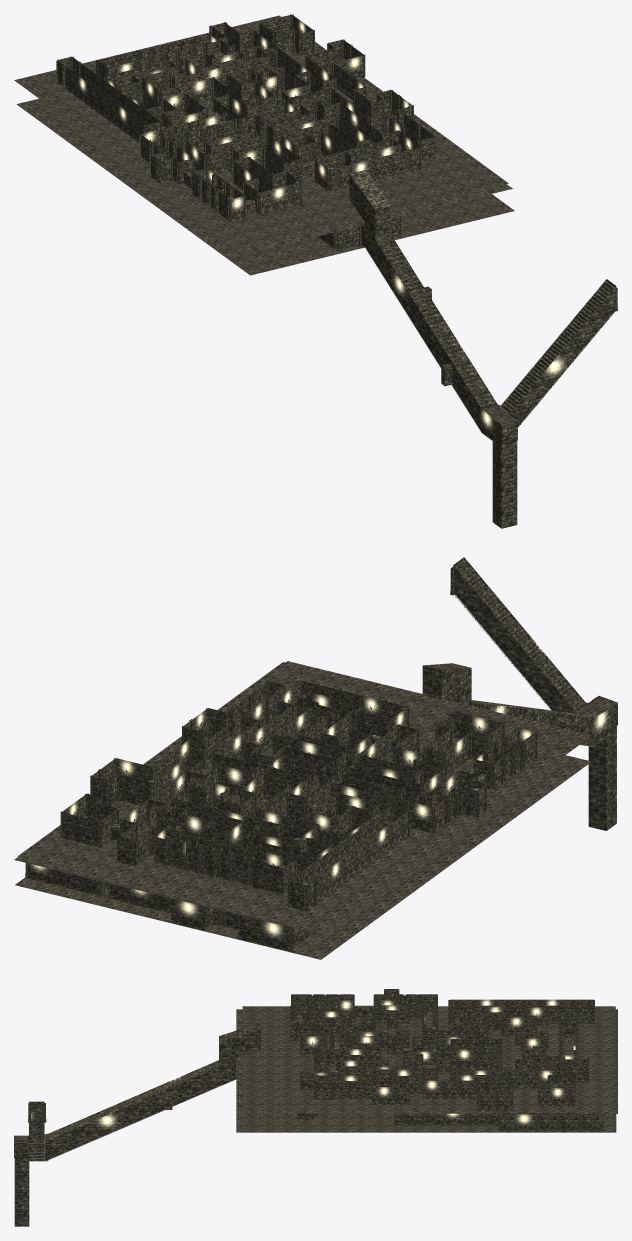
The model's file is FI_002_zennkiseisaku_meiro2_01_40.fbx.
3 renders of one model, top to bottom at view 1: azimuth 30°, elevation 25°; view 2: azimuth 150°, elevation 25°; view 3: azimuth 270°, elevation 25°, orthographic. The views are drawn at different scales.
Parts seen in each view (by area): view 1: kabe_2kai, yuka_2kai, kabe_1kai, yuka_1kai, hasira, tenjou_kaidann, tenjou_kaidann2, tenjou_1kai; view 2: kabe_2kai, yuka_2kai, kabe_1kai, hasira, yuka_1kai, tenjou_kaidann2, tenjou_1kai, saku; view 3: kabe_2kai, yuka_2kai, kabe_1kai, yuka_1kai, hasira, tenjou_1kai, tenjou_kaidann, kaidann.
Part boxes in pixels (box(x1,y1,x2,y2)): kabe_2kai: box(57, 14, 435, 221); yuka_2kai: box(14, 15, 508, 248); kabe_1kai: box(234, 119, 616, 528); yuka_1kai: box(16, 99, 514, 275); hasira: box(56, 14, 435, 250); tenjou_kaidann: box(375, 235, 496, 408); tenjou_kaidann2: box(502, 281, 614, 411); tenjou_1kai: box(244, 114, 512, 252); kabe_2kai: box(61, 681, 535, 910); yuka_2kai: box(17, 662, 589, 931); kabe_1kai: box(27, 557, 617, 951); hasira: box(25, 680, 537, 951); yuka_1kai: box(15, 755, 591, 959); tenjou_kaidann2: box(455, 560, 585, 711); tenjou_1kai: box(14, 661, 591, 934); saku: box(146, 567, 454, 826); kabe_2kai: box(291, 989, 593, 1111); yuka_2kai: box(242, 1006, 615, 1111); kabe_1kai: box(14, 1022, 602, 1226); yuka_1kai: box(236, 1038, 616, 1132); hasira: box(290, 989, 603, 1131); tenjou_1kai: box(236, 1009, 617, 1113); tenjou_kaidann: box(48, 1062, 218, 1139); kaidann: box(28, 1035, 573, 1161).
Bounding box in the file's own units: 972 × 847 × 2341.
